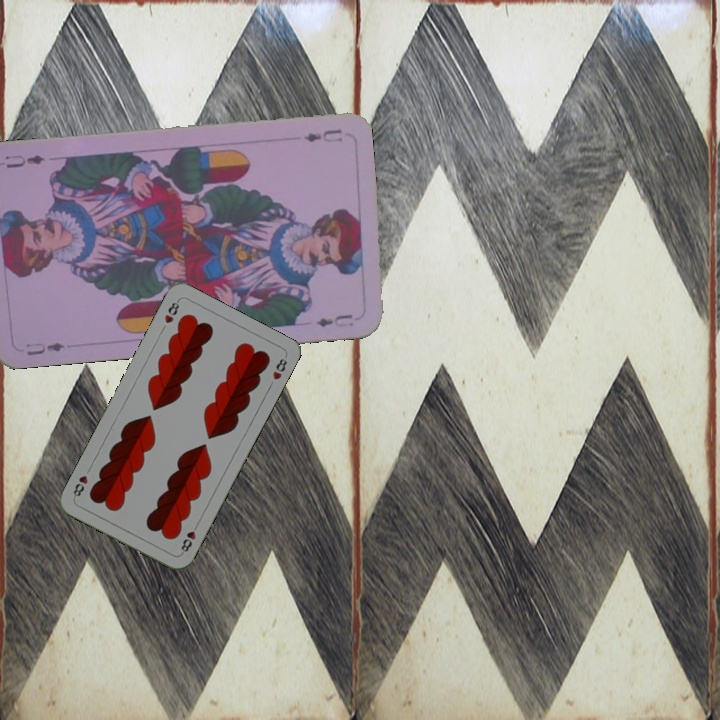EU: (22, 338, 68, 358), (300, 125, 345, 145)
H8: (177, 519, 201, 557), (160, 296, 182, 326)
